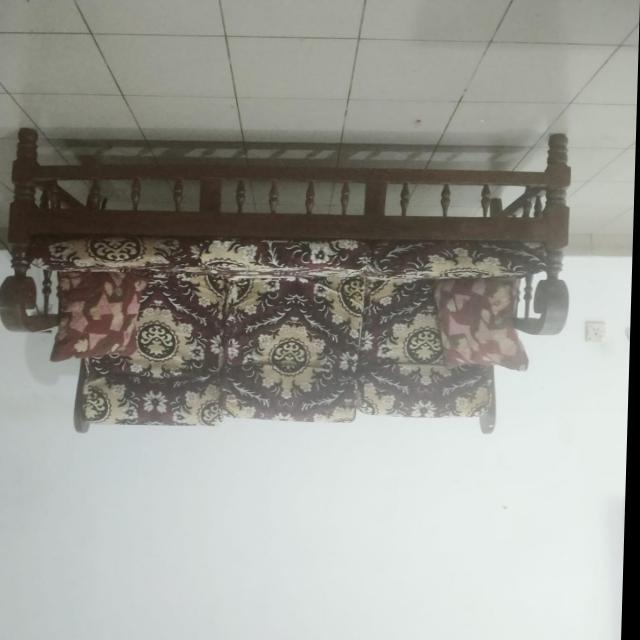Sofa: (0, 133, 576, 434)
